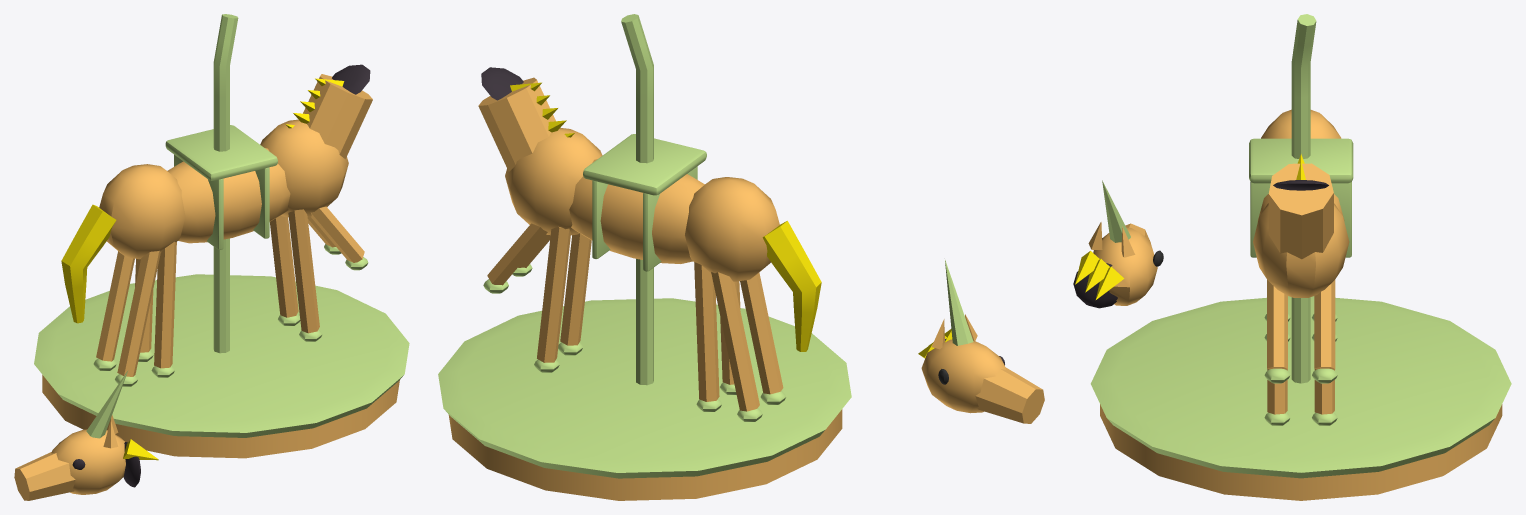
The model's file is TW_HeadlessHorse_Carnival.fbx.
3 renders of one model, left to right at view 1: azimuth 30°, elevation 25°; view 2: azimuth 150°, elevation 25°; view 3: azimuth 270°, elevation 25°, orthographic. The views are drawn at different scales.
Visible parts, largest first — view 1: Body, Part_Head; view 2: Body, Part_Head; view 3: Body, Part_Head.
Part boxes in pixels (<box>): Body: <box>34,14,409,458</box>; Part_Head: <box>14,370,158,500</box>; Body: <box>438,14,851,500</box>; Part_Head: <box>918,260,1044,423</box>; Body: <box>1090,14,1511,500</box>; Part_Head: <box>1073,180,1163,308</box>.
Bounding box in the file's own units: 4.8 × 3.77 × 3.71.
